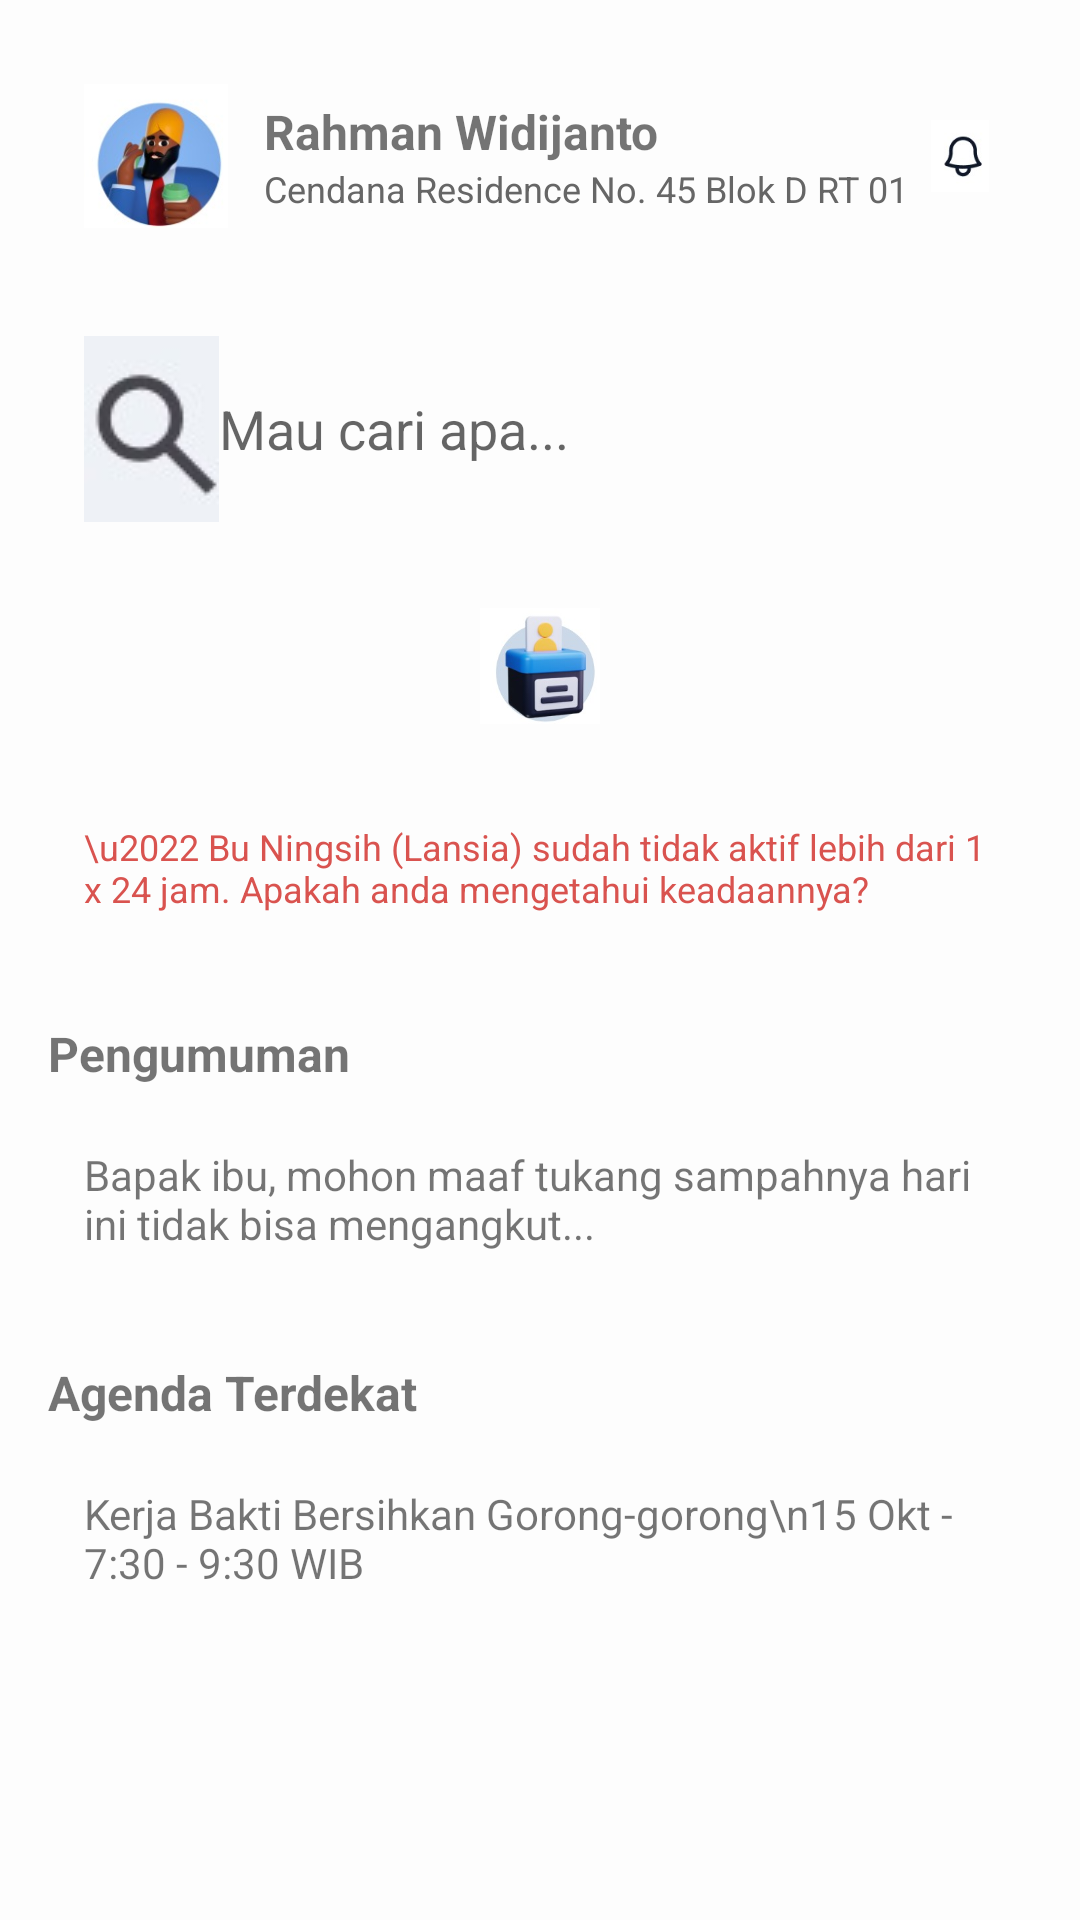

Screen size 1080px×1920px. Icon name, then its center in pixels as point (x, y):
bell: point (963, 156)
saran: point (545, 669)
